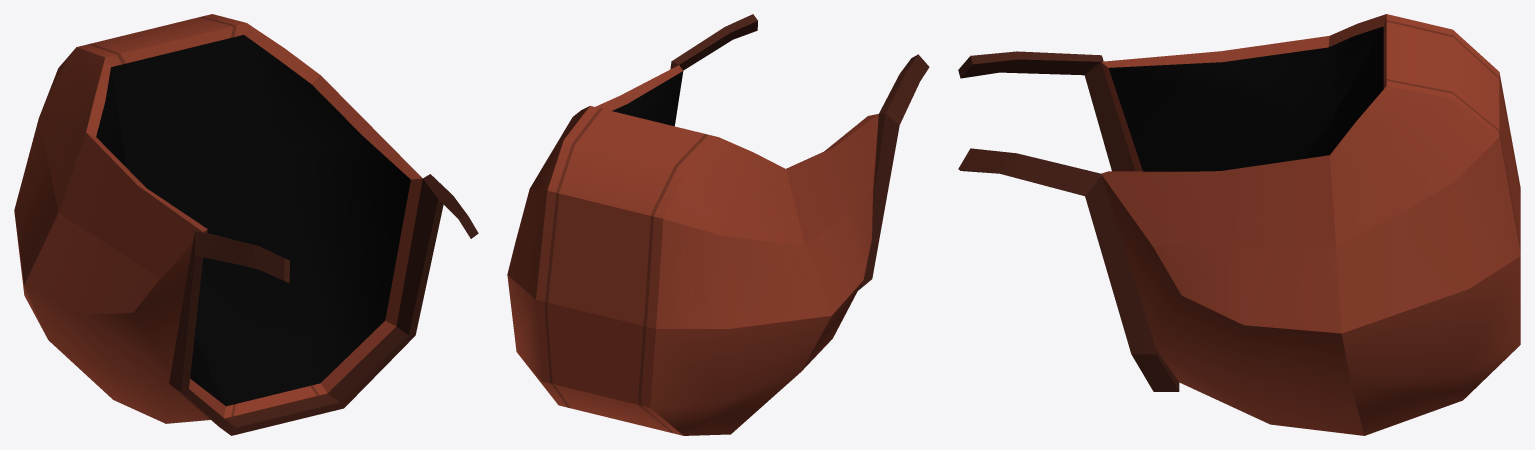
File: LeatherCoif_M.glb
The picture shows the model from 3 angles, left to right: view 1: azimuth 30°, elevation 25°; view 2: azimuth 150°, elevation 25°; view 3: azimuth 270°, elevation 25°; orthographic projection. The views are drawn at different scales.
Parts seen in each view (by area): view 1: LeatherCoif_M; view 2: LeatherCoif_M; view 3: LeatherCoif_M.
Part boxes in pixels (x1,y1,x2,y2): LeatherCoif_M: [14, 14, 478, 435]; LeatherCoif_M: [507, 14, 929, 435]; LeatherCoif_M: [958, 14, 1520, 435].
Bounding box in the file's own units: 0.275 × 0.253 × 0.3701.
Materials: 1 (1 with a texture image).
